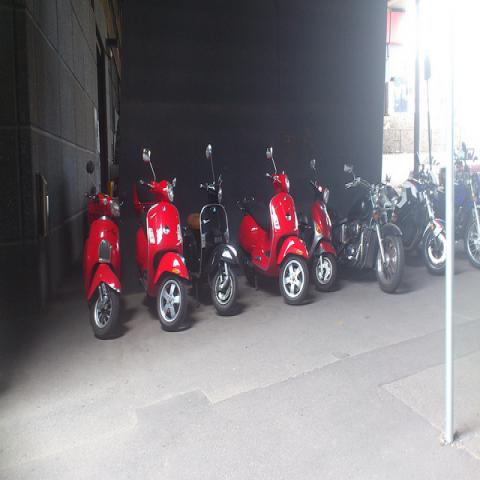motorcycle: (234, 147, 311, 308), (132, 148, 190, 333), (328, 166, 405, 294), (184, 146, 239, 314), (82, 162, 122, 334), (396, 149, 446, 276), (297, 158, 338, 292), (454, 159, 479, 269), (384, 184, 399, 221)
